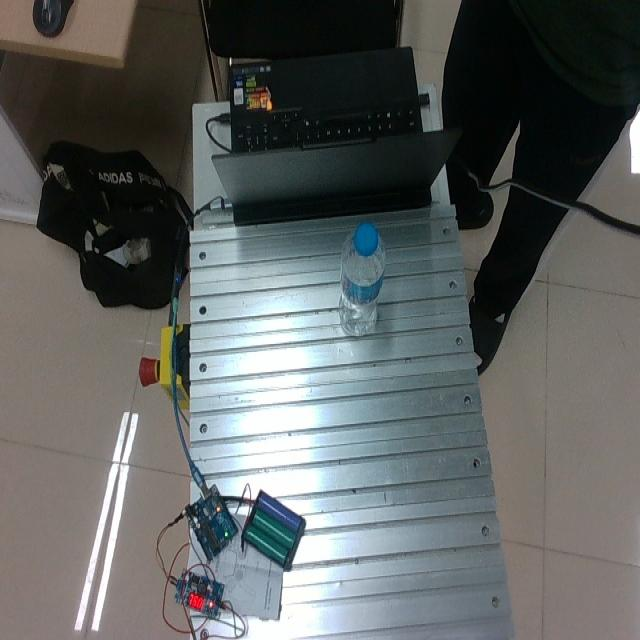lavie: (338, 223, 384, 336)
